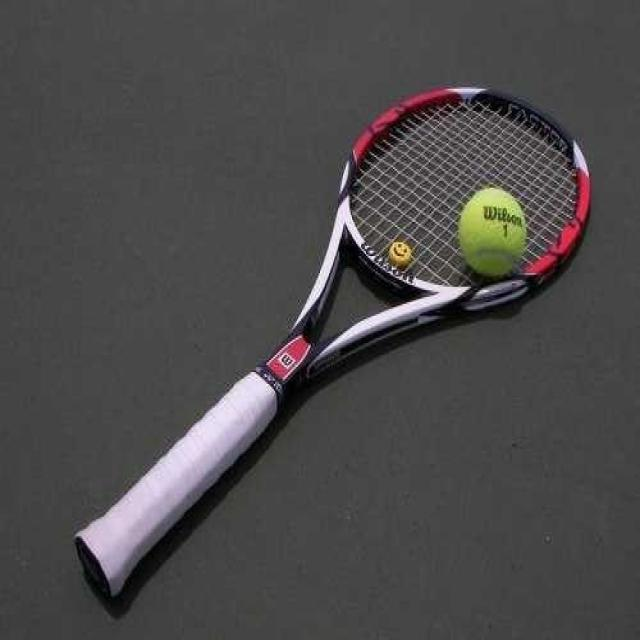Tennis_Ball: (462, 190, 531, 276)
